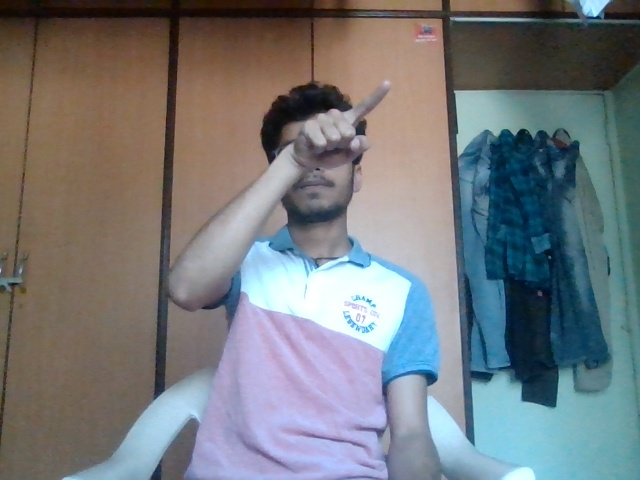you: (291, 76, 400, 164)
